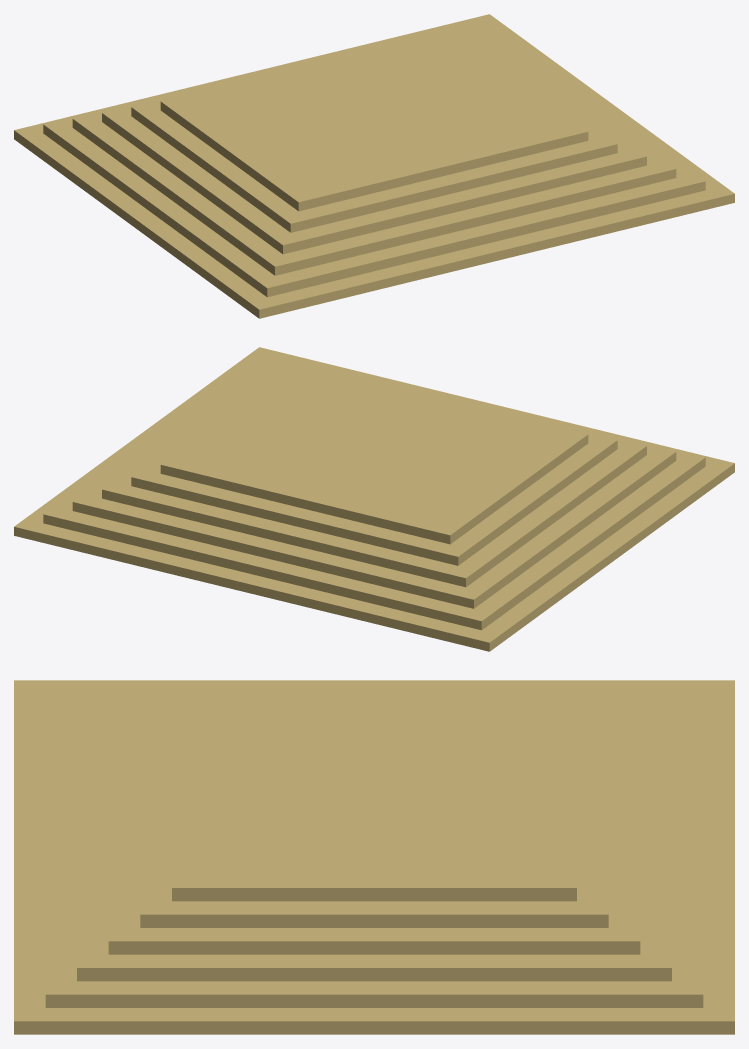
Rendered from Ruins_Stairs_Square_01.fbx.
3 renders of one model, top to bottom at view 1: azimuth 30°, elevation 25°; view 2: azimuth 150°, elevation 25°; view 3: azimuth 270°, elevation 25°, orthographic. The views are drawn at different scales.
Visible parts, largest first — view 1: Model; view 2: Model; view 3: Model.
Part boxes in pixels (left/top/right/bottom): Model: left=14, top=14, right=734, bottom=318; Model: left=14, top=347, right=734, bottom=651; Model: left=14, top=680, right=734, bottom=1034.
Bounding box in the file's own units: 439 × 48 × 392.
